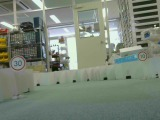speed_10: (137, 51, 149, 62)
speed_30: (9, 55, 27, 72)
